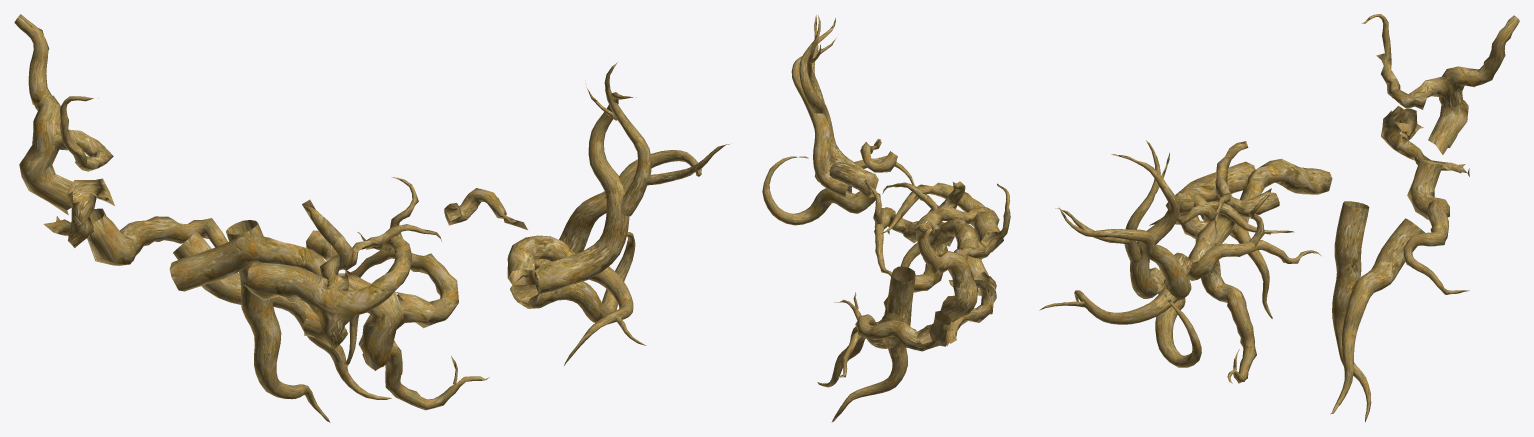
Rendered from NaveeBioSkib17_CleanUp_x02_Roedder4_glb03.glb.
3 views of the same model, side by side, from view 1: azimuth 30°, elevation 25°; view 2: azimuth 150°, elevation 25°; view 3: azimuth 270°, elevation 25° (orthographic). The views are drawn at different scales.
Parts seen in each view (by area): view 1: Grene.003; view 2: Grene.003; view 3: Grene.003.
Boxes of the visible parts, <box> form: Grene.003: <box>14,14,731,422</box>; Grene.003: <box>762,15,1010,422</box>; Grene.003: <box>1039,14,1519,422</box>.
Bounding box in the file's own units: 0.8435 × 0.7267 × 0.921.
Materials: 1 (1 with a texture image).
